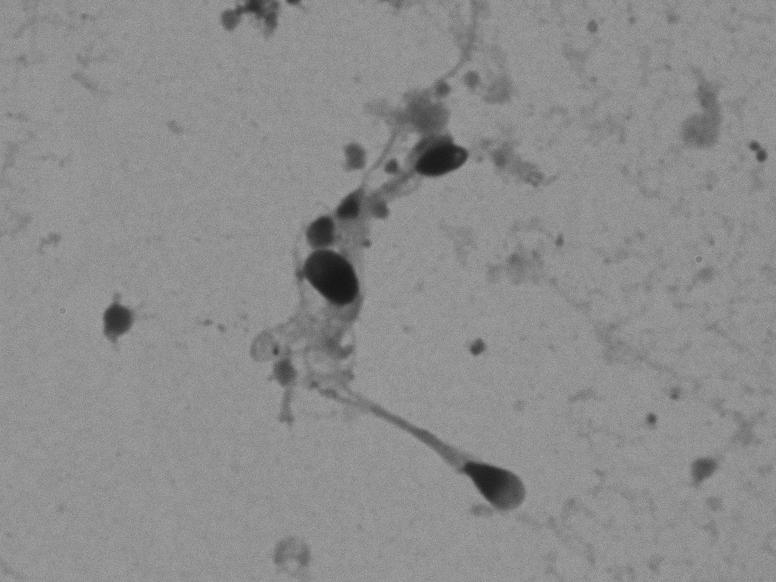Abnormal: (290, 16, 564, 227), (291, 353, 568, 555), (196, 239, 434, 375)
